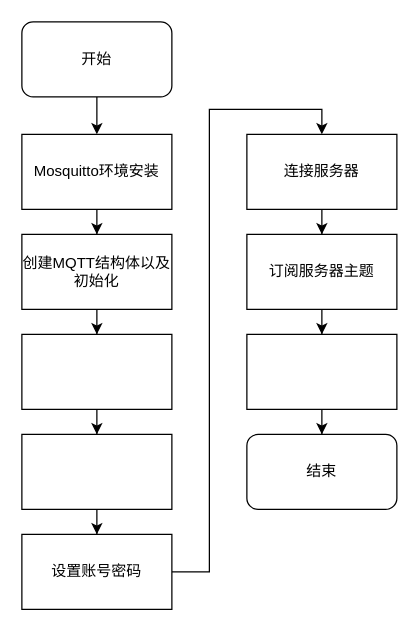
Image size: 419x631. Some labels were removed from this diagram. The box of each missing label's shape, as (x1, y1, x2, y2) in pixels:
Mosquitto资源初始化: (21, 333, 172, 409)
创建 MQTT客户端实例: (21, 433, 172, 509)
设置回调函数: (246, 333, 397, 409)
